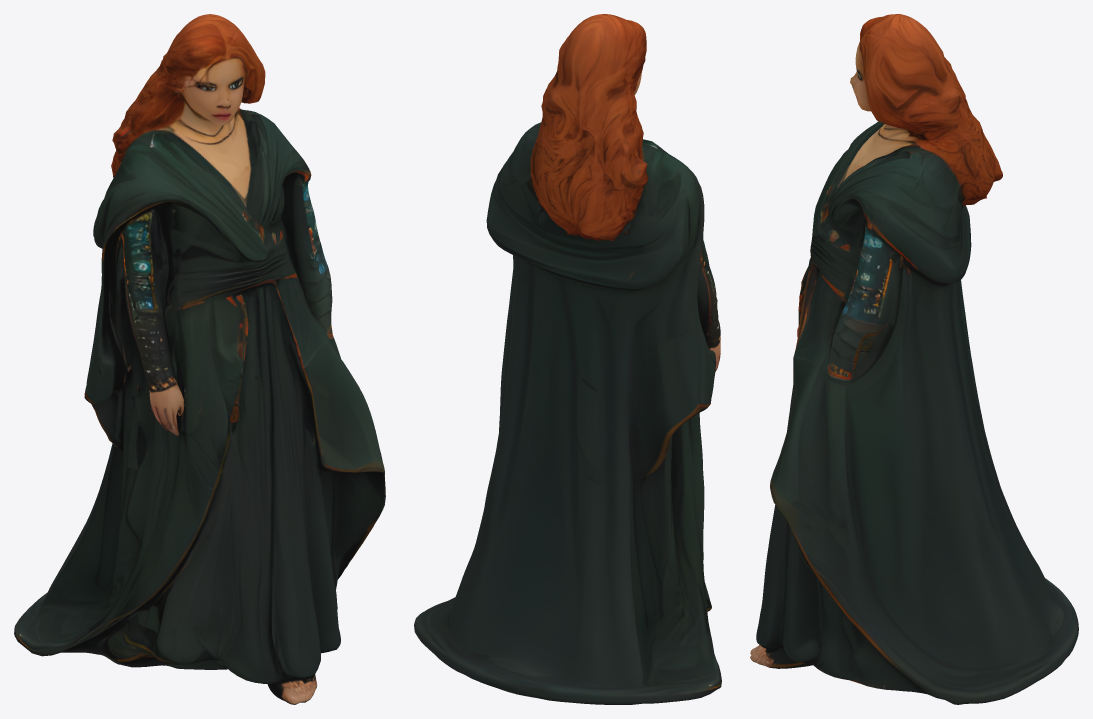
File: eldara.glb
3 renders of one model, left to right at view 1: azimuth 30°, elevation 25°; view 2: azimuth 150°, elevation 25°; view 3: azimuth 270°, elevation 25°, orthographic.
Parts seen in each view (by area): view 1: model; view 2: model; view 3: model.
Boxes of the visible parts, bbox=[...] form: model: bbox=[14, 14, 385, 704]; model: bbox=[414, 14, 721, 704]; model: bbox=[750, 14, 1078, 704].
Size of the model in its own units: 0.9352 by 1.9 by 0.8968.
Materials: 1 (1 with a texture image).
